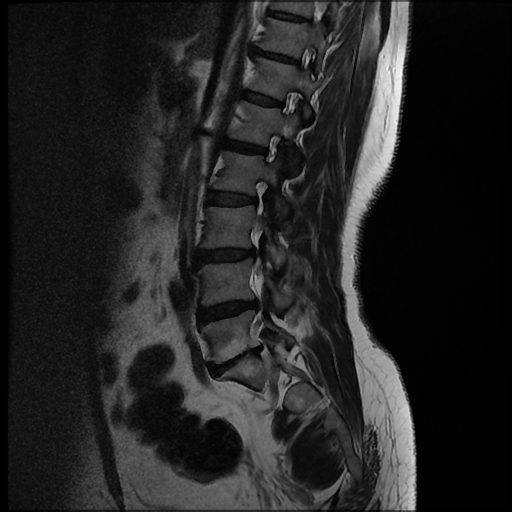RFS0: (240, 173, 280, 216), (254, 128, 289, 171)
